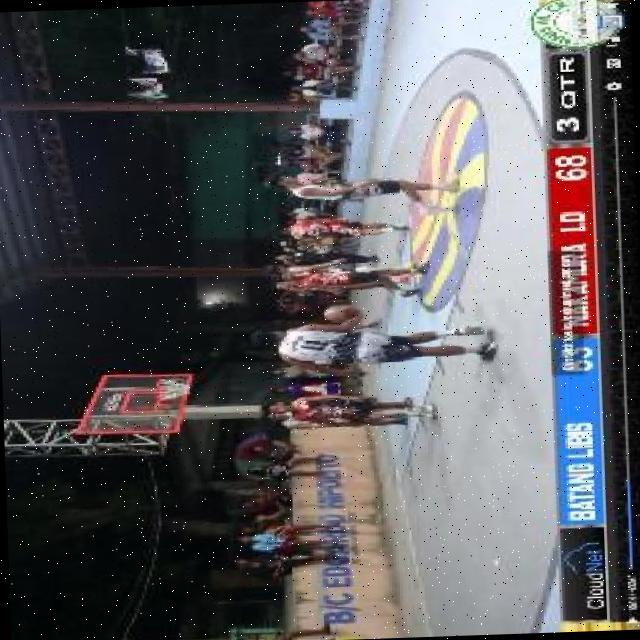ball: (320, 302, 360, 322)
